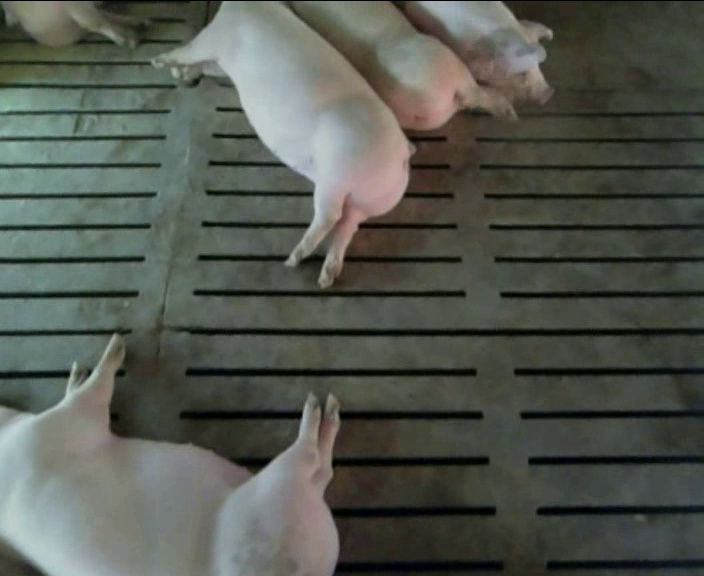pig: (152, 2, 412, 287), (289, 2, 515, 129), (397, 1, 552, 104)
